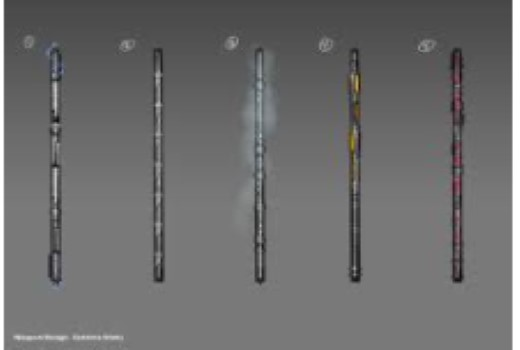baston_e: (250, 57, 268, 276), (150, 56, 167, 274), (345, 58, 362, 274), (450, 57, 467, 268), (48, 58, 64, 276)
baston_v: (41, 35, 71, 60), (39, 266, 69, 286), (344, 266, 369, 289), (444, 264, 469, 285), (148, 269, 171, 287), (148, 41, 167, 62), (247, 44, 268, 62), (250, 269, 271, 287), (341, 43, 362, 60), (445, 40, 464, 55)
